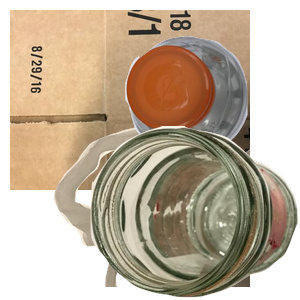cardboard: (10, 10, 250, 190)
glass: (90, 126, 300, 300)
plastic: (123, 33, 300, 181)
trash: (51, 120, 291, 300)
